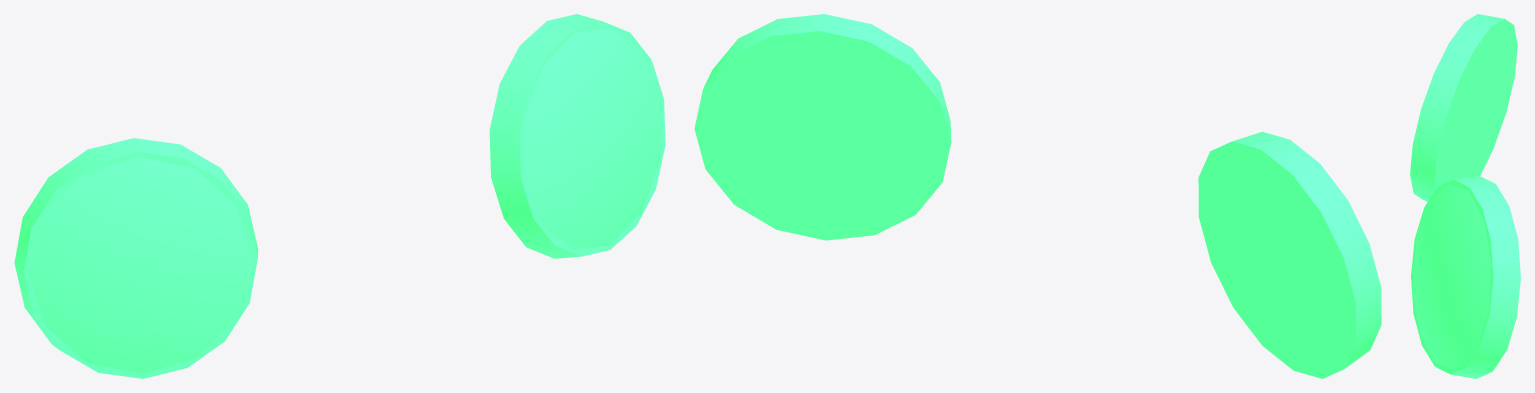
File: eyes_glowing.glb
The picture shows the model from 3 angles, left to right: view 1: azimuth 30°, elevation 25°; view 2: azimuth 150°, elevation 25°; view 3: azimuth 270°, elevation 25°; orthographic projection. The views are drawn at different scales.
Visible parts, largest first — view 1: glow_R, glow_L; view 2: glow_L, glow_R; view 3: glow_L, glow_R.
Part boxes in pixels (x1,y1,x2,y2): glow_R: (14, 138, 258, 378); glow_L: (489, 14, 665, 258); glow_L: (694, 14, 951, 240); glow_R: (1198, 132, 1381, 378); glow_L: (1411, 176, 1520, 378); glow_R: (1410, 14, 1517, 201).
Size of the model in its own units: 0.1507 by 0.0527 by 0.0273.
